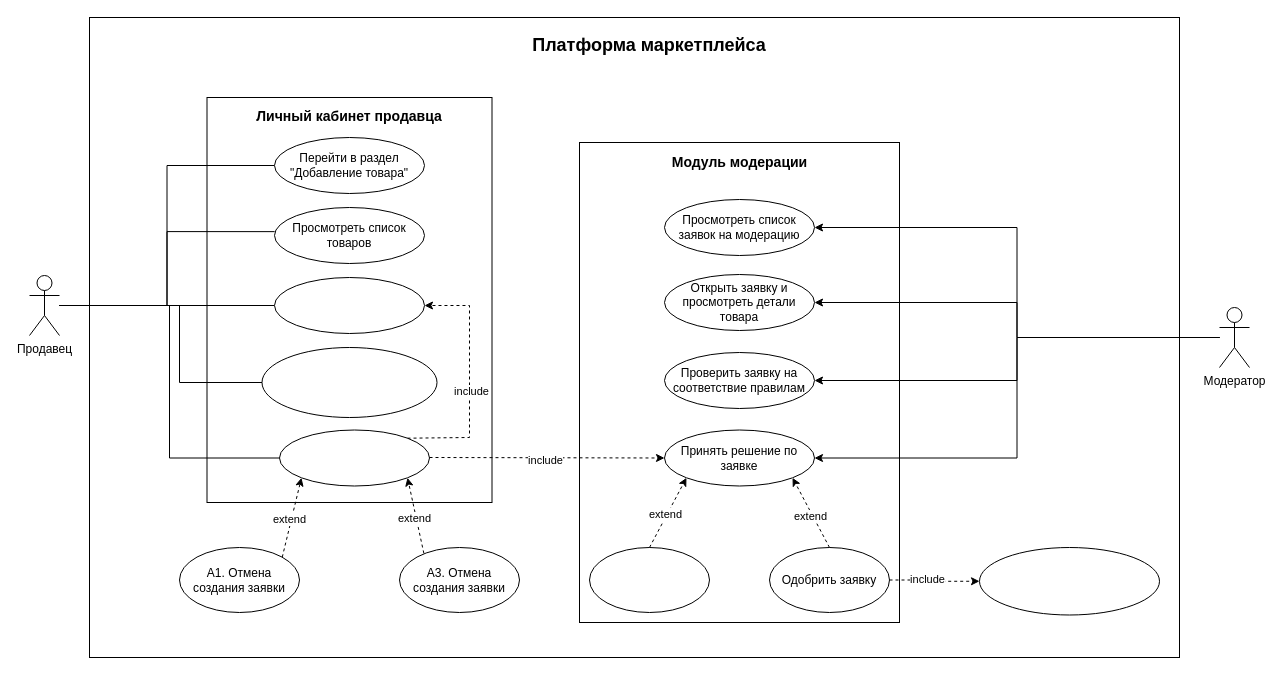
The diagram is 1283 pixels wide and 675 high, and some of its shapes have lost their labels. The shapes that lost their labels are listed below. From the top down, each one's centre as x and y in pixels, then its label:
the point at 349,305: Создать заявку на добавление товара
the point at 349,382: Заполнить данные товара и загрузить медиафайлы
the point at 354,457: Отправить заявку на модерацию
the point at 649,579: А2. Вернуть заявку на доработку
the point at 1069,580: Опубликовать товар на витрине маркетплейса
